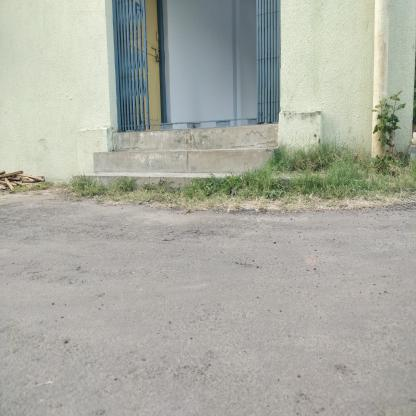stairs: (109, 134, 255, 209)
